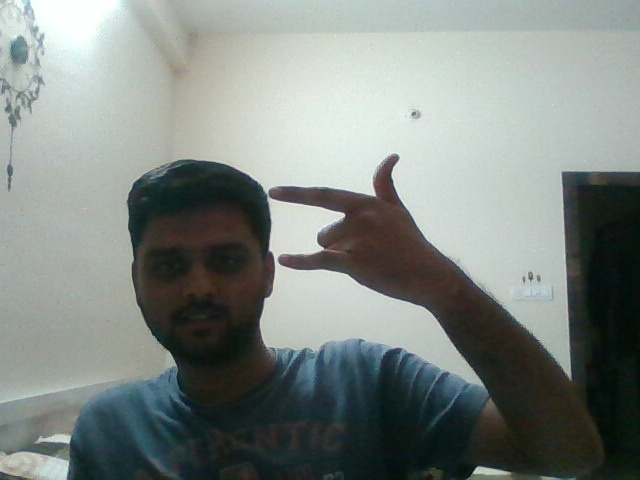haila: (265, 141, 471, 318)
